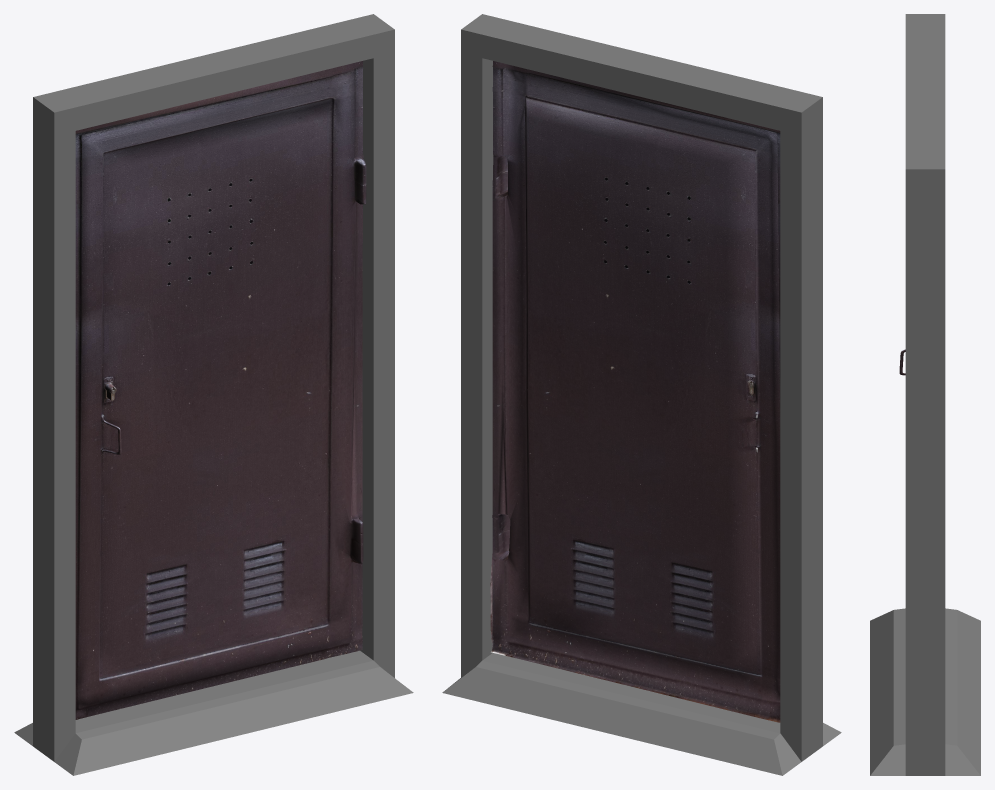
Rendered from metal dver s ramkoi.fbx.
3 views of the same model, side by side, from view 1: azimuth 30°, elevation 25°; view 2: azimuth 150°, elevation 25°; view 3: azimuth 270°, elevation 25° (orthographic). The views are drawn at different scales.
Parts seen in each view (by area): view 1: Object_0, Doorway_Baked_002_2; view 2: Object_0, Doorway_Baked_002_2; view 3: Doorway_Baked_002_2.
Boxes of the visible parts, left/top/right/bottom form: Object_0: left=75, top=61, right=366, bottom=719; Doorway_Baked_002_2: left=14, top=14, right=413, bottom=775; Object_0: left=490, top=61, right=780, bottom=722; Doorway_Baked_002_2: left=442, top=14, right=841, bottom=775; Doorway_Baked_002_2: left=870, top=14, right=980, bottom=775.
Size of the model in its own units: 12.19 by 22.22 by 3.68.
